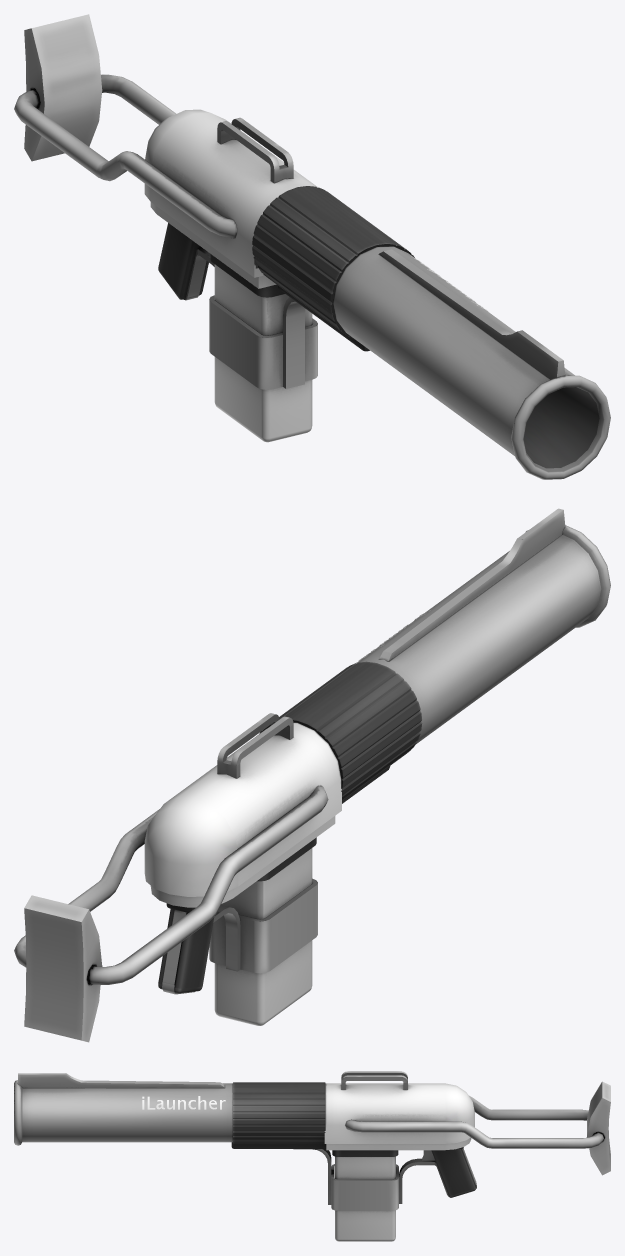
The model's file is iLauncher.fbx.
3 views of the same model, one above another, from view 1: azimuth 30°, elevation 25°; view 2: azimuth 150°, elevation 25°; view 3: azimuth 270°, elevation 25° (orthographic). The views are drawn at different scales.
Parts seen in each view (by area): view 1: polySurface66; view 2: polySurface66; view 3: polySurface66.
Part boxes in pixels (box(x1,y1,x2,y2)): polySurface66: box(14, 14, 610, 479); polySurface66: box(14, 508, 610, 1042); polySurface66: box(14, 1071, 610, 1241).
Bounding box in the file's own units: 0.1313 × 0.2991 × 1.
